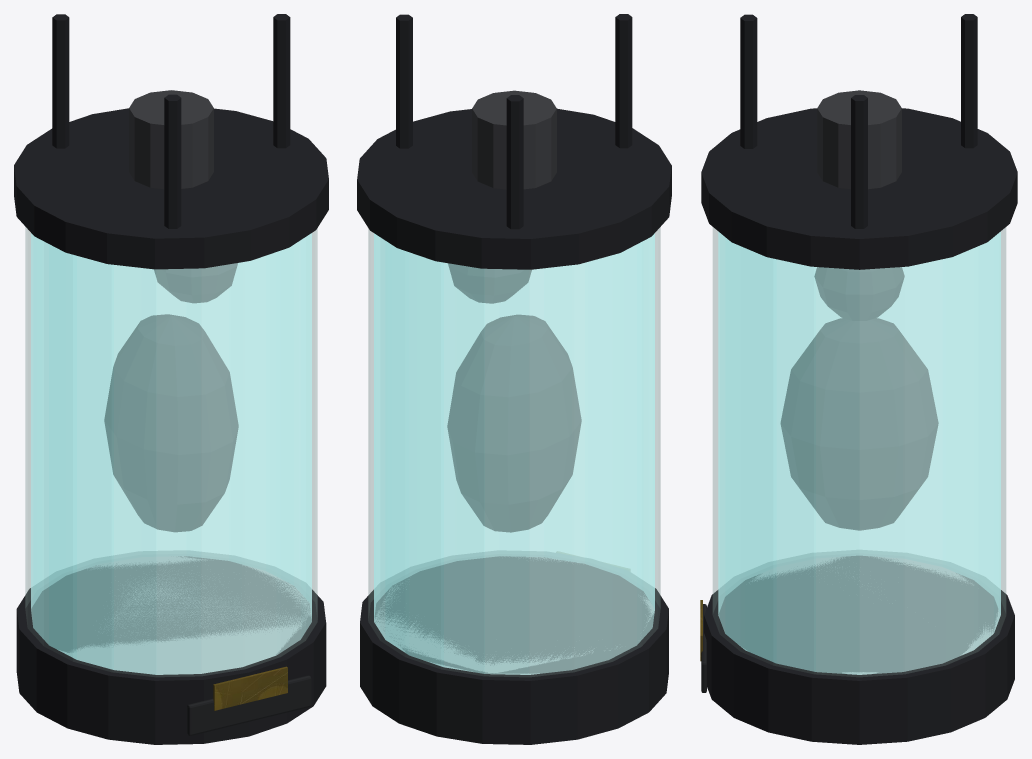
Rendered from specimen_tank.glb.
3 renders of one model, left to right at view 1: azimuth 30°, elevation 25°; view 2: azimuth 150°, elevation 25°; view 3: azimuth 270°, elevation 25°, orthographic.
Visible parts, largest first — view 1: body; view 2: body; view 3: body.
Boxes of the visible parts, x1,y1,x2,y2 form: body: [14, 14, 328, 744]; body: [357, 14, 671, 744]; body: [700, 14, 1017, 744].
Bounding box in the file's own units: 1.12 × 2.48 × 1.12.
6 materials, 3 textured.
